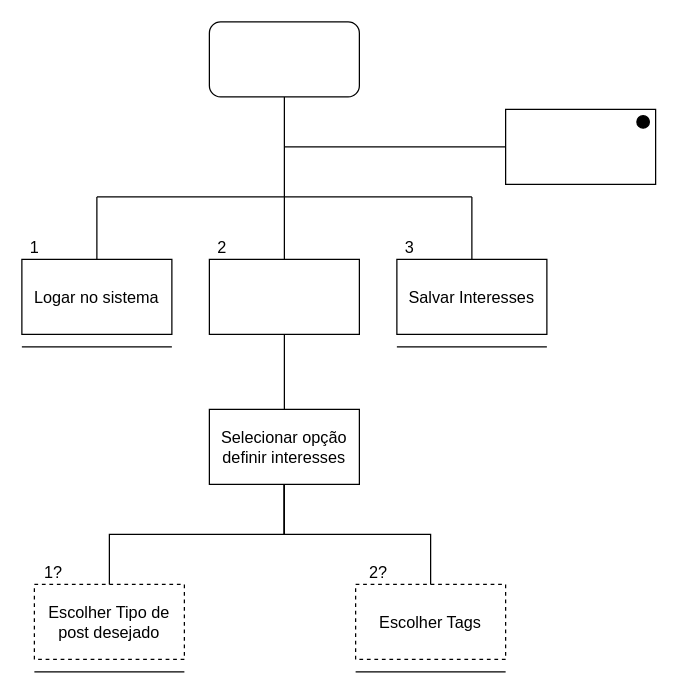
Image size: 678x695. Some labels were removed from this diagram. Here are the shapes that lost their labels. From the top down, the box of each, then its label:
(208, 21, 359, 97): Definir Interesses
(504, 108, 656, 184): Sair
(208, 258, 359, 334): Selecionar opção usuário no Header
